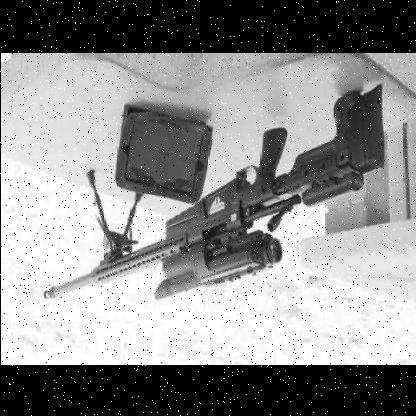rifle: (33, 89, 406, 321)
